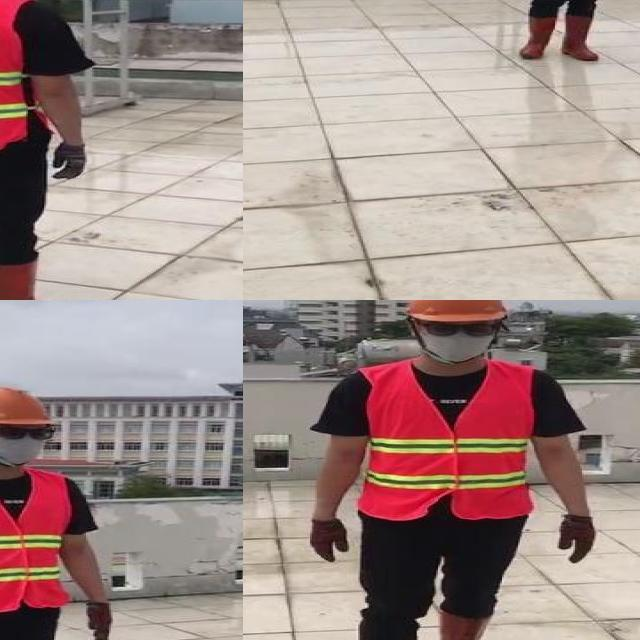boots: (0, 260, 71, 300), (560, 13, 603, 62), (436, 611, 500, 640), (523, 14, 555, 60)
face_mask: (418, 316, 500, 362), (0, 421, 54, 464)
glasses: (417, 314, 502, 340), (0, 421, 59, 443)
hand_glove: (306, 519, 351, 562), (559, 516, 598, 563), (53, 143, 92, 183), (84, 603, 114, 640)
head_helmet: (397, 300, 509, 323), (0, 385, 54, 428)
person: (298, 300, 609, 640), (0, 0, 108, 300), (0, 378, 121, 640), (503, 0, 640, 62)
vest: (360, 363, 530, 521), (0, 470, 73, 611)
